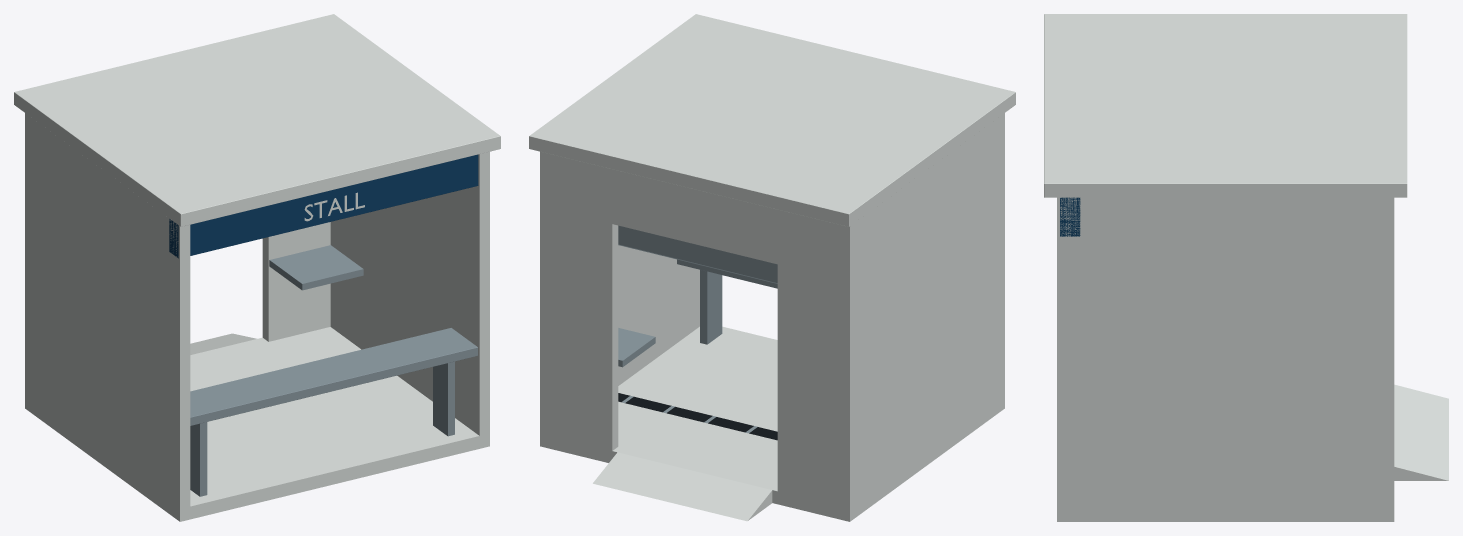
File: hawker_stall.glb
3 renders of one model, left to right at view 1: azimuth 30°, elevation 25°; view 2: azimuth 150°, elevation 25°; view 3: azimuth 270°, elevation 25°, orthographic. The views are drawn at different scales.
Parts seen in each view (by area): view 1: wall, roof, concrete, metal, plate.001; view 2: wall, roof, concrete, metal, trim; view 3: wall, roof, concrete, plate.001.
Boxes of the visible parts, x1,y1,x2,y2 form: wall: (25,113,489,515); roof: (14,14,500,226); concrete: (25,327,489,521); metal: (190,245,477,496); plate.001: (169,154,478,258); wall: (540,113,1004,515); roof: (529,14,1015,226); concrete: (540,326,1004,521); metal: (618,225,777,433); trim: (618,393,777,440); wall: (1057,197,1394,514); roof: (1044,14,1407,197); concrete: (1057,384,1448,521); plate.001: (1060,197,1080,236).
Bounding box in the file's own units: 3.1 × 2.9 × 3.12.
